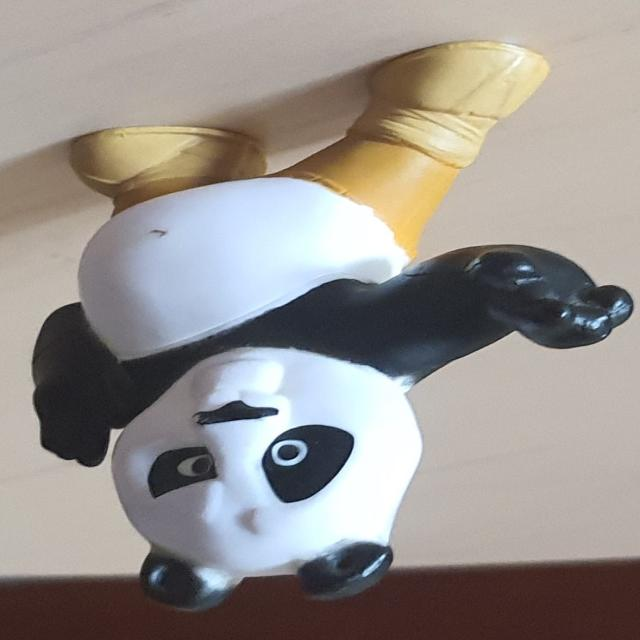Panda: (30, 41, 635, 613)
